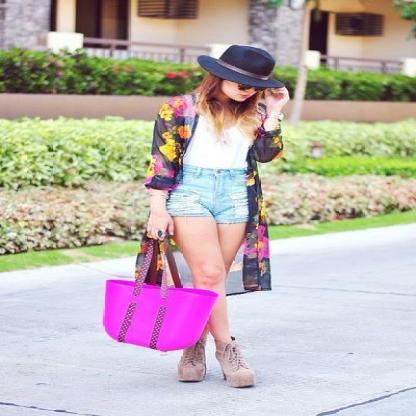bag: (103, 280, 211, 352)
hat: (198, 45, 286, 95)
jacket: (133, 95, 283, 290)
shirt: (182, 125, 252, 168)
shoe: (177, 341, 241, 383)
shorts: (170, 162, 261, 223)
